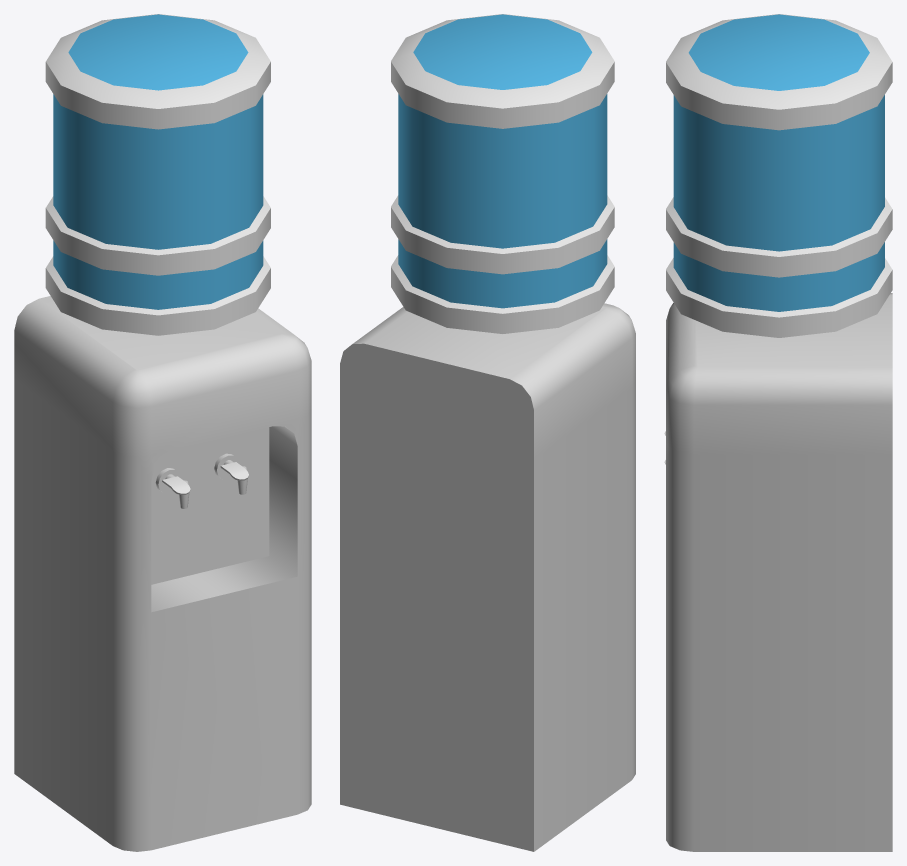
The model's file is office_cooler.gltf.
The picture shows the model from 3 angles, left to right: view 1: azimuth 30°, elevation 25°; view 2: azimuth 150°, elevation 25°; view 3: azimuth 270°, elevation 25°; orthographic projection.
Parts seen in each view (by area): view 1: Base, WaterBottle; view 2: Base, WaterBottle; view 3: Base, WaterBottle.
Boxes of the visible parts, x1,y1,x2,y2 form: Base: (14, 296, 311, 851); WaterBottle: (45, 14, 270, 335); Base: (340, 303, 635, 851); WaterBottle: (391, 14, 614, 333); Base: (666, 293, 892, 851); WaterBottle: (666, 14, 892, 337).
Bounding box in the file's own units: 0.42 × 1.45 × 0.4025.
